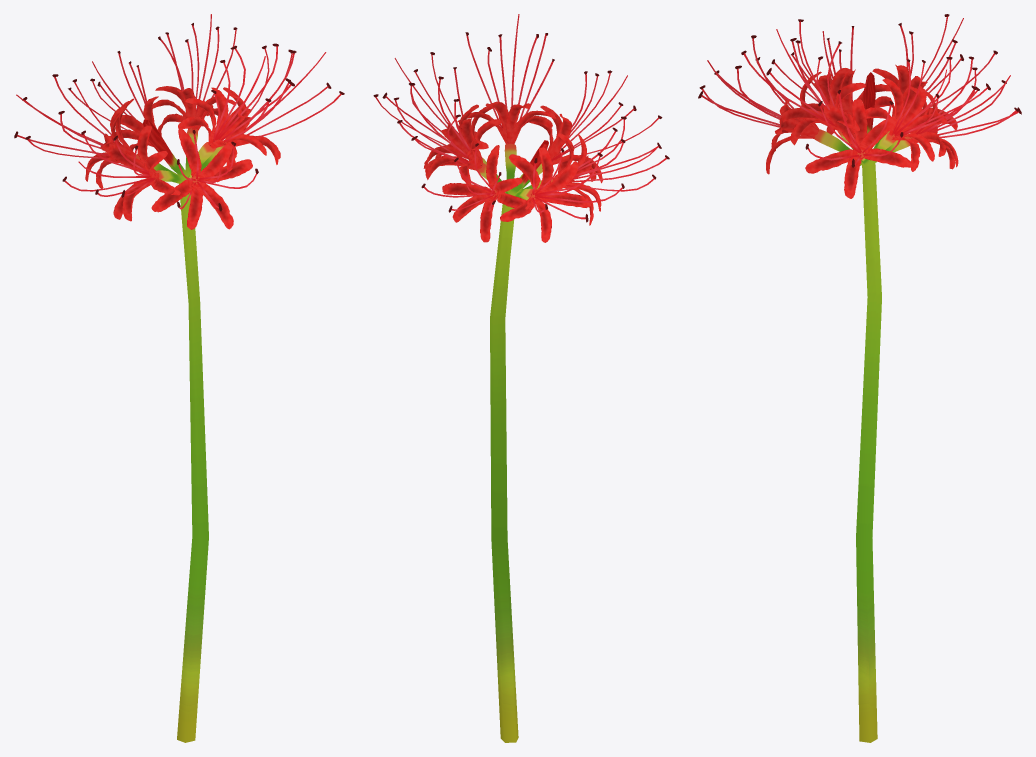
The model's file is m_lycoris01.fbx.
3 views of the same model, side by side, from view 1: azimuth 30°, elevation 25°; view 2: azimuth 150°, elevation 25°; view 3: azimuth 270°, elevation 25° (orthographic). The views are drawn at different scales.
Parts seen in each view (by area): view 1: mesh_lycoris01_LOD0; view 2: mesh_lycoris01_LOD0; view 3: mesh_lycoris01_LOD0.
Part boxes in pixels (x1,y1,x2,y2): mesh_lycoris01_LOD0: [14, 14, 344, 742]; mesh_lycoris01_LOD0: [373, 14, 669, 742]; mesh_lycoris01_LOD0: [698, 14, 1021, 742].
Size of what is drawn, in the model's own units: 0.1639 by 0.3993 by 0.161.
